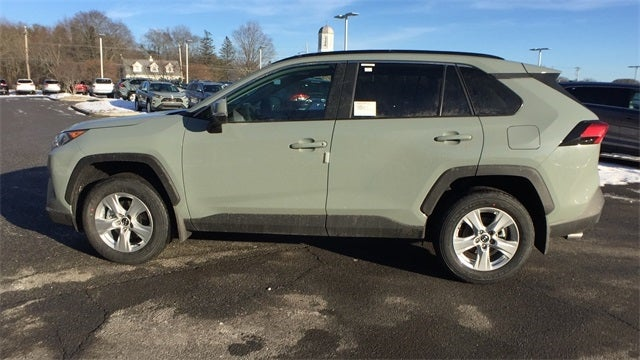Toyota RAV-4: (44, 48, 607, 287)
